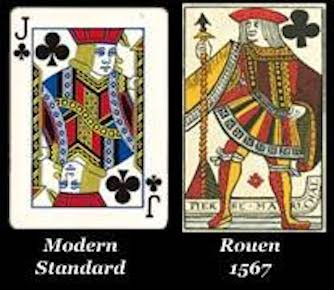JackOfClubs: (6, 4, 170, 235), (180, 3, 331, 236)
